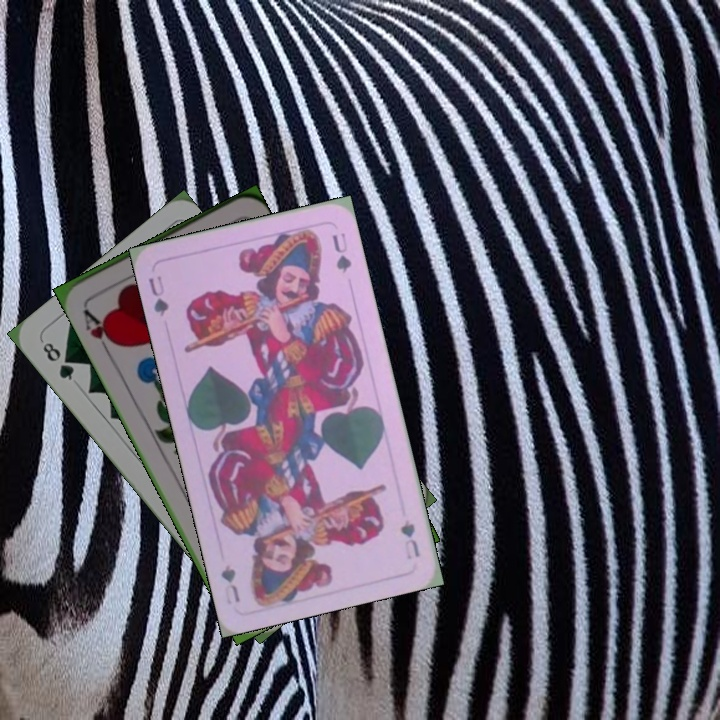G8: (38, 338, 77, 383)
GU: (144, 272, 171, 319), (396, 515, 423, 562)
HA: (79, 300, 120, 356)
